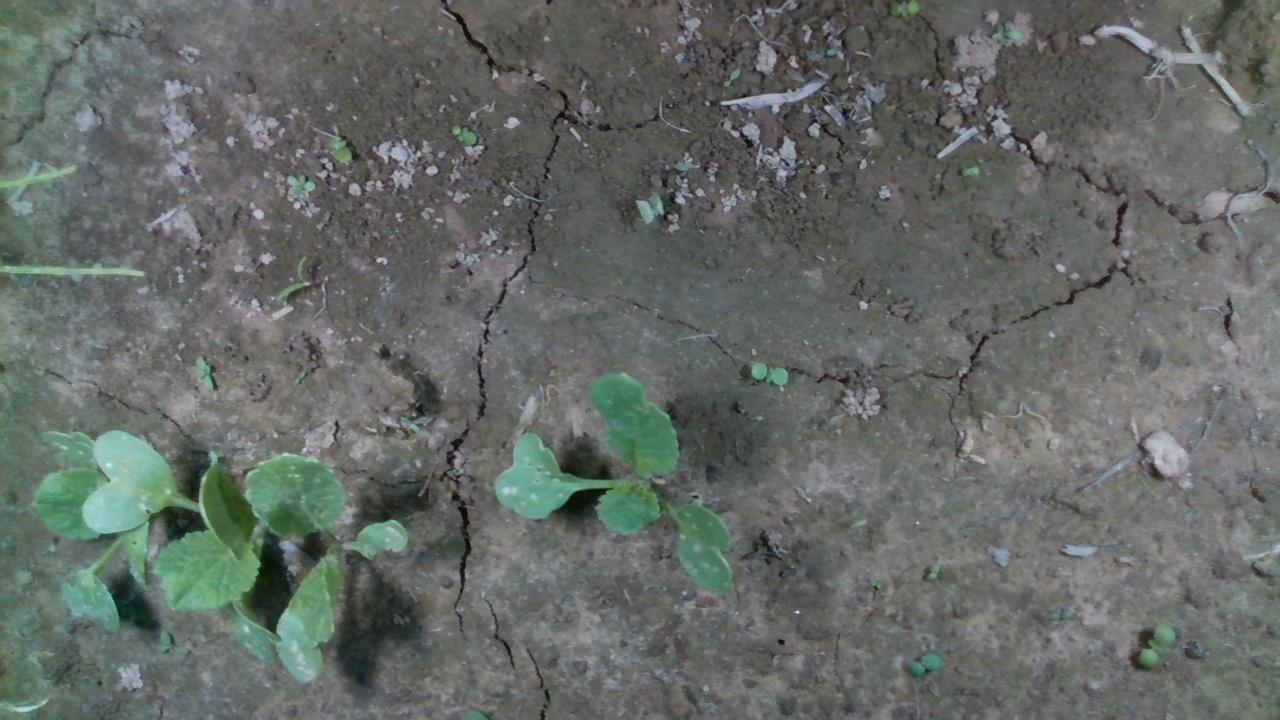weed: (1140, 625, 1183, 672), (903, 652, 959, 685), (747, 360, 790, 385), (280, 170, 315, 200), (927, 560, 950, 582), (861, 576, 889, 593)
